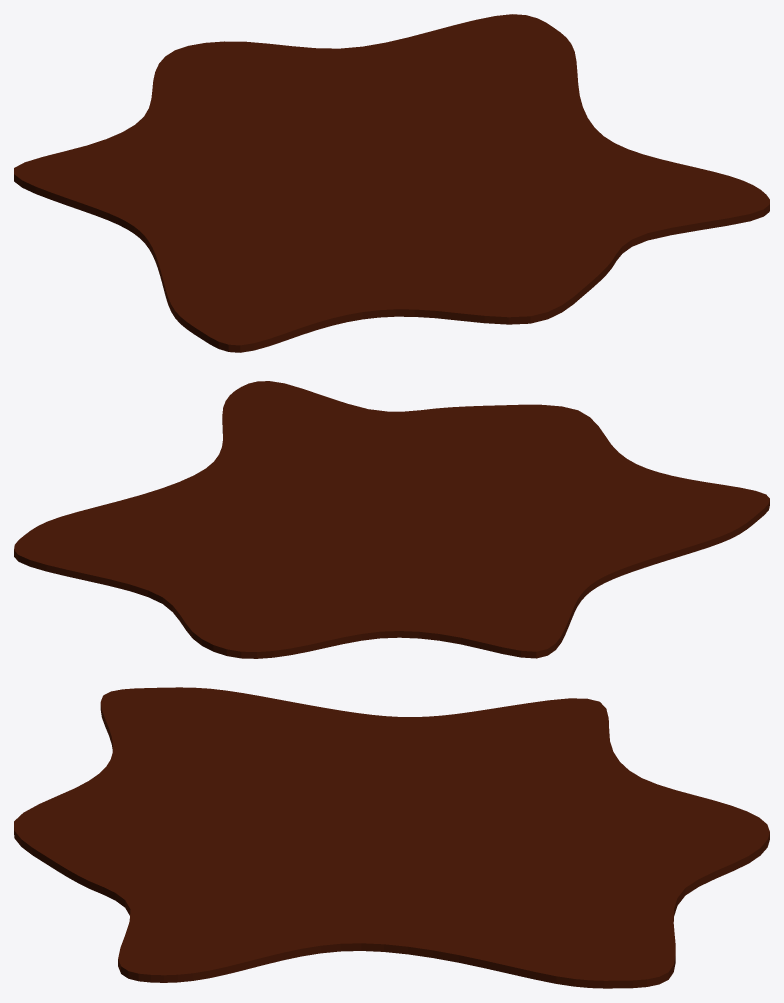
File: peanutbutter.FBX
3 views of the same model, one above another, from view 1: azimuth 30°, elevation 25°; view 2: azimuth 150°, elevation 25°; view 3: azimuth 270°, elevation 25° (orthographic). The views are drawn at different scales.
Visible parts, largest first — view 1: BarbQ; view 2: BarbQ; view 3: BarbQ.
Boxes of the visible parts, left/top/right/bottom form: BarbQ: left=14, top=14, right=769, bottom=352; BarbQ: left=14, top=381, right=769, bottom=658; BarbQ: left=14, top=687, right=769, bottom=988.
Size of the model in its own units: 0.00103 by 1.26e-05 by 0.00112.
